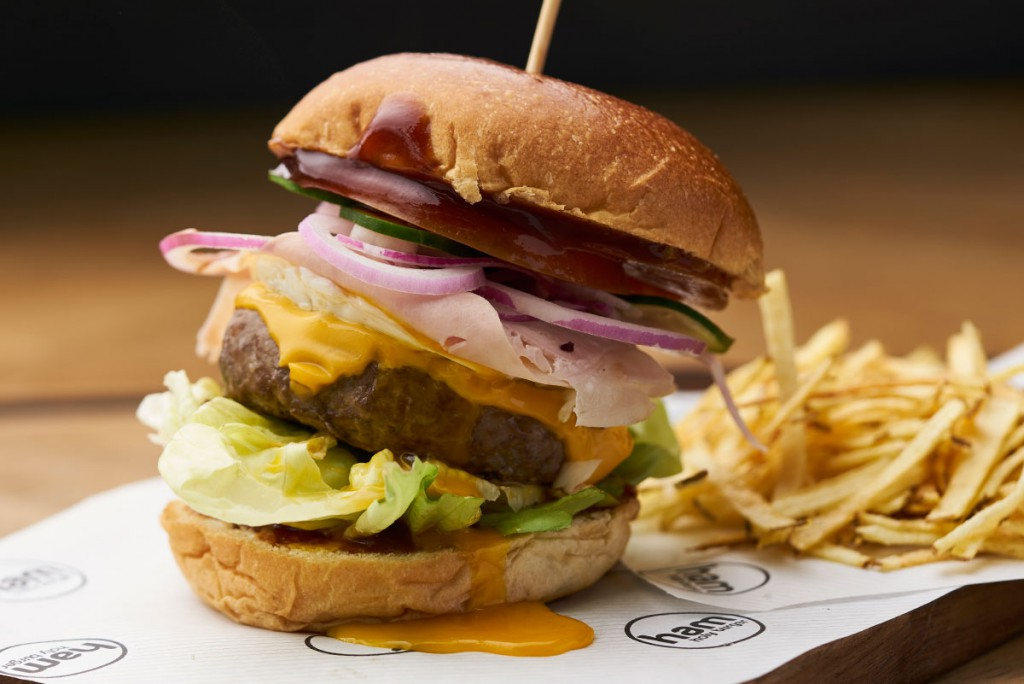hamburger: (87, 46, 789, 648)
